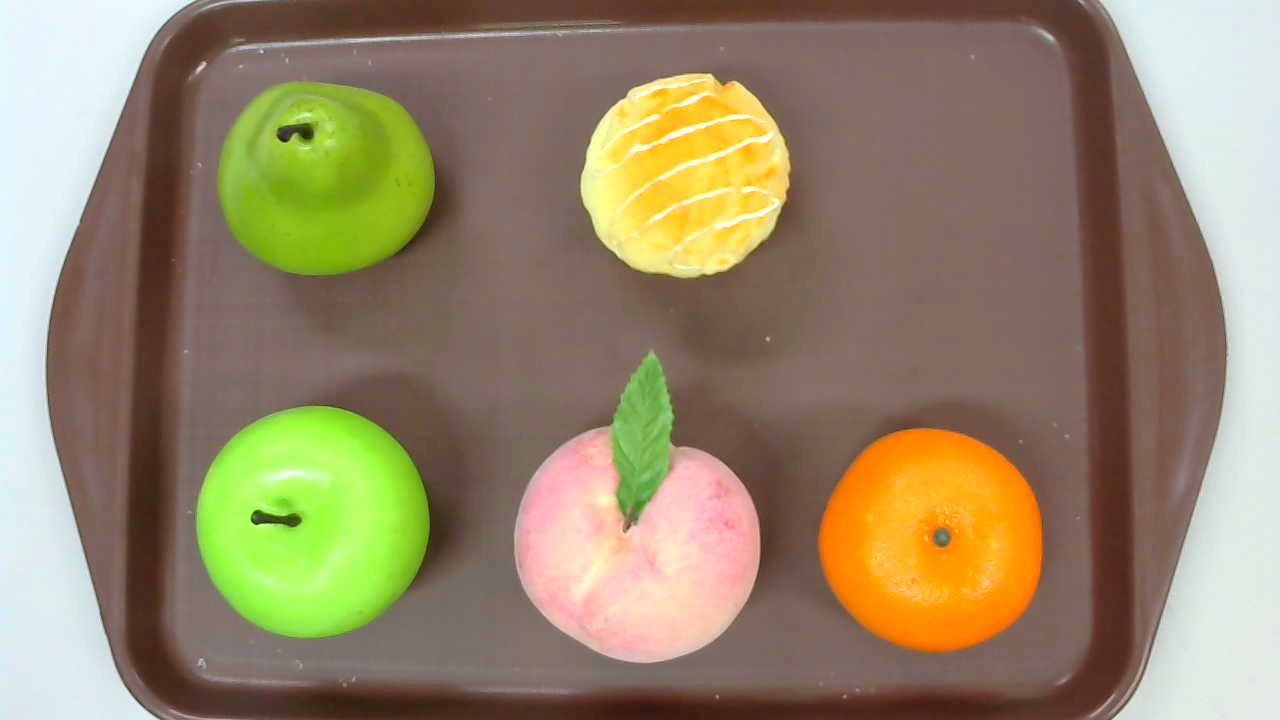cupcake: (580, 71, 791, 280)
green apple: (196, 404, 431, 641)
green pear: (217, 81, 435, 276)
orange: (816, 427, 1042, 652)
peach: (514, 350, 760, 665)
